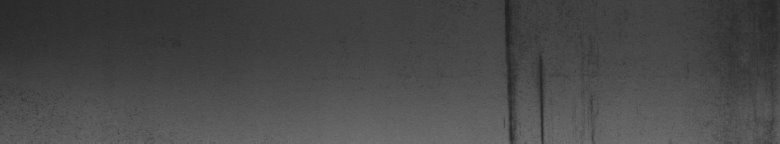hd: (499, 4, 598, 136)
